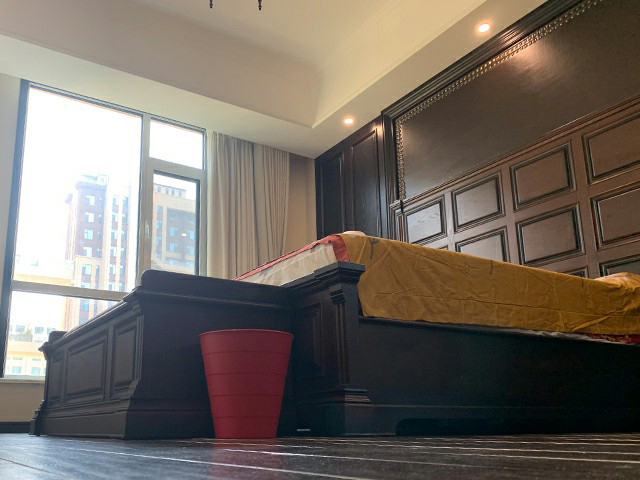bed: (230, 229, 640, 440)
stool: (28, 268, 296, 443)
trashcan: (198, 327, 294, 441)
